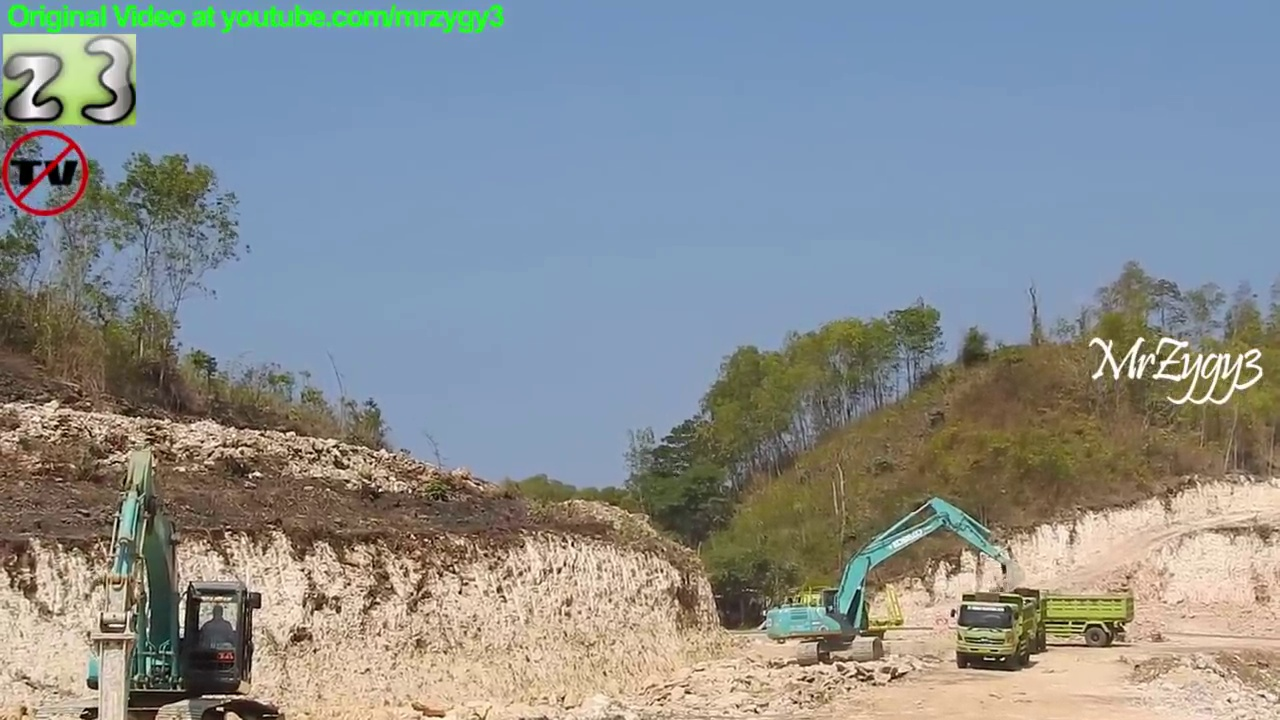excavator: (33, 443, 290, 720), (761, 493, 1030, 669)
truck: (972, 581, 1138, 651), (950, 589, 1041, 671), (975, 586, 1051, 657)
